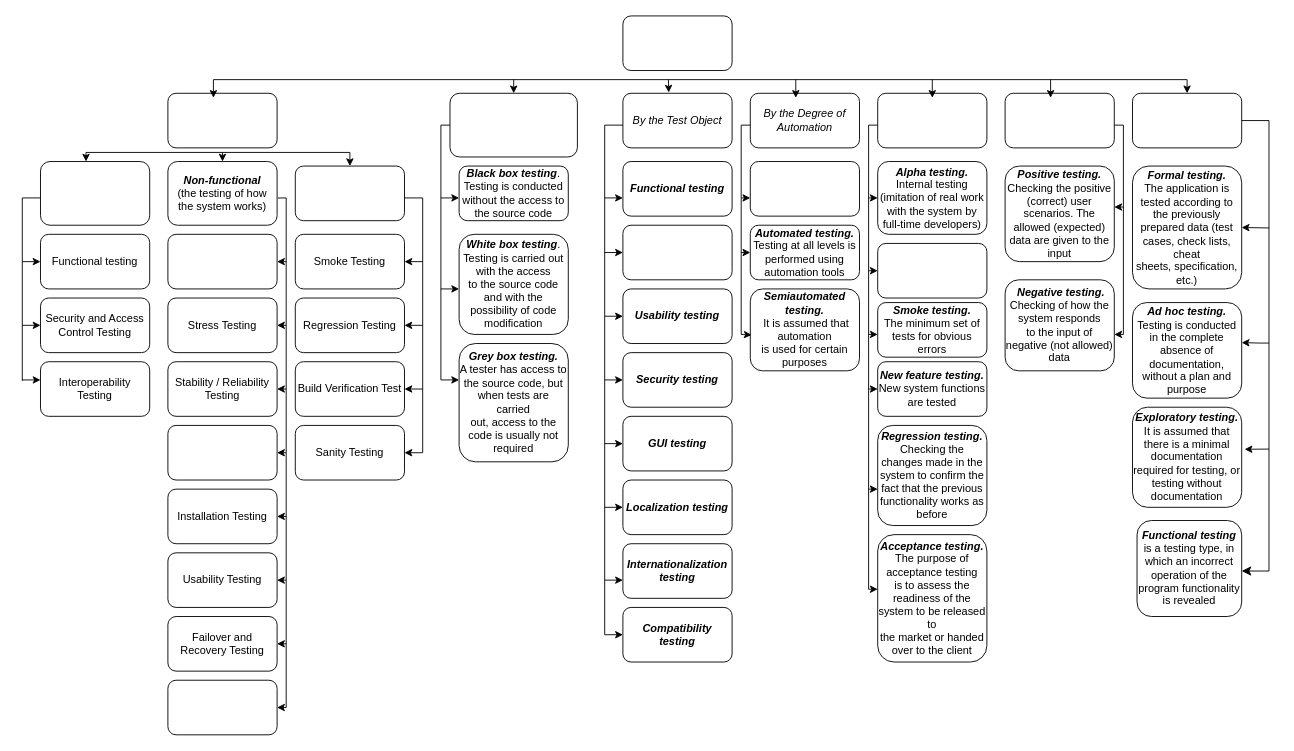
This 1294x751 diagram has some shape labels left out. Each missing label, with the centre of its shape:
"Beta testing. External trial use by involving the selected users." goes at [932,270].
"By Knowing the Internal Structure of the System (Code Availability)" goes at [513,124].
"By the Degree of Preparedness for Testing" goes at [1187,120].
"By the Positivity of Scenarios" goes at [1059,120].
"By the Testing Time" goes at [932,120].
"Change-related" goes at [349,193].
"Configuration Testing" goes at [222,707].
"Functional (based on functions and features)" goes at [95,193].
"Groups depending on the objectives pursued to testing:" goes at [222,120].
"Manual testing. Testing is conducted without automation tools" goes at [804,188].
"Performance and Load Testing" goes at [222,261].
"Performance testing" goes at [677,252].
"Testing Types" goes at [677,43].
"Volume Testing" goes at [222,452].
